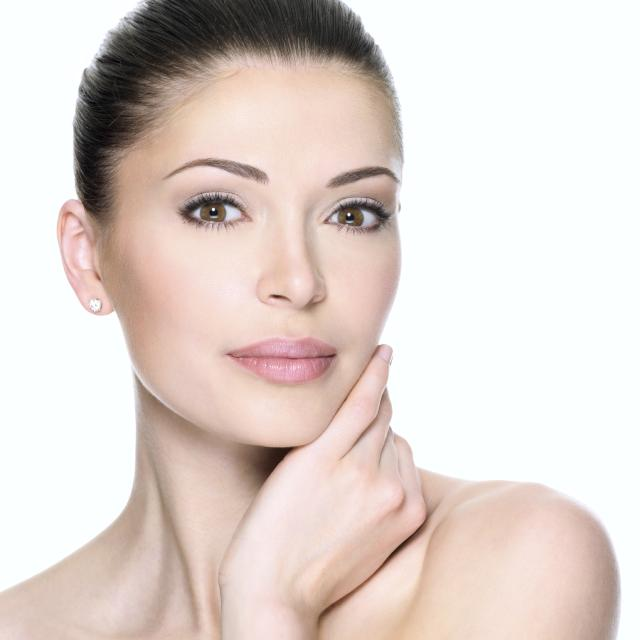front: (144, 136, 403, 413)
